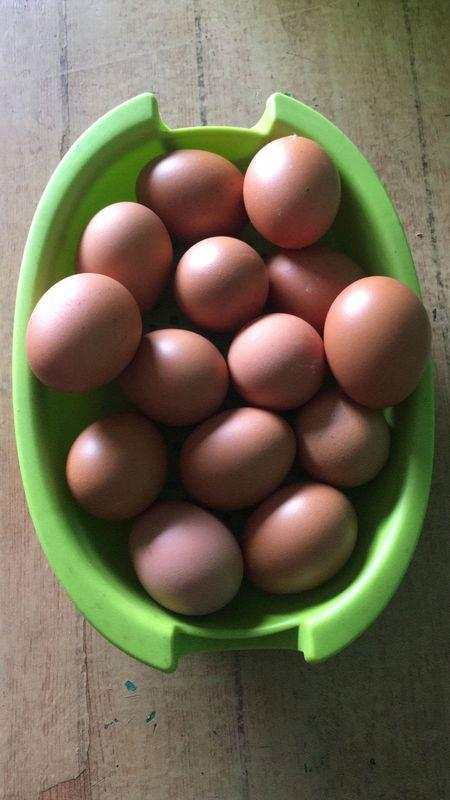telur: (54, 288, 115, 367), (351, 289, 409, 370), (146, 521, 214, 585), (160, 159, 231, 217), (271, 152, 327, 220), (152, 341, 212, 402), (90, 421, 138, 496), (243, 332, 306, 389), (209, 427, 270, 485), (259, 516, 325, 569), (105, 214, 158, 273), (197, 252, 247, 307), (314, 424, 369, 469), (292, 259, 328, 310)
